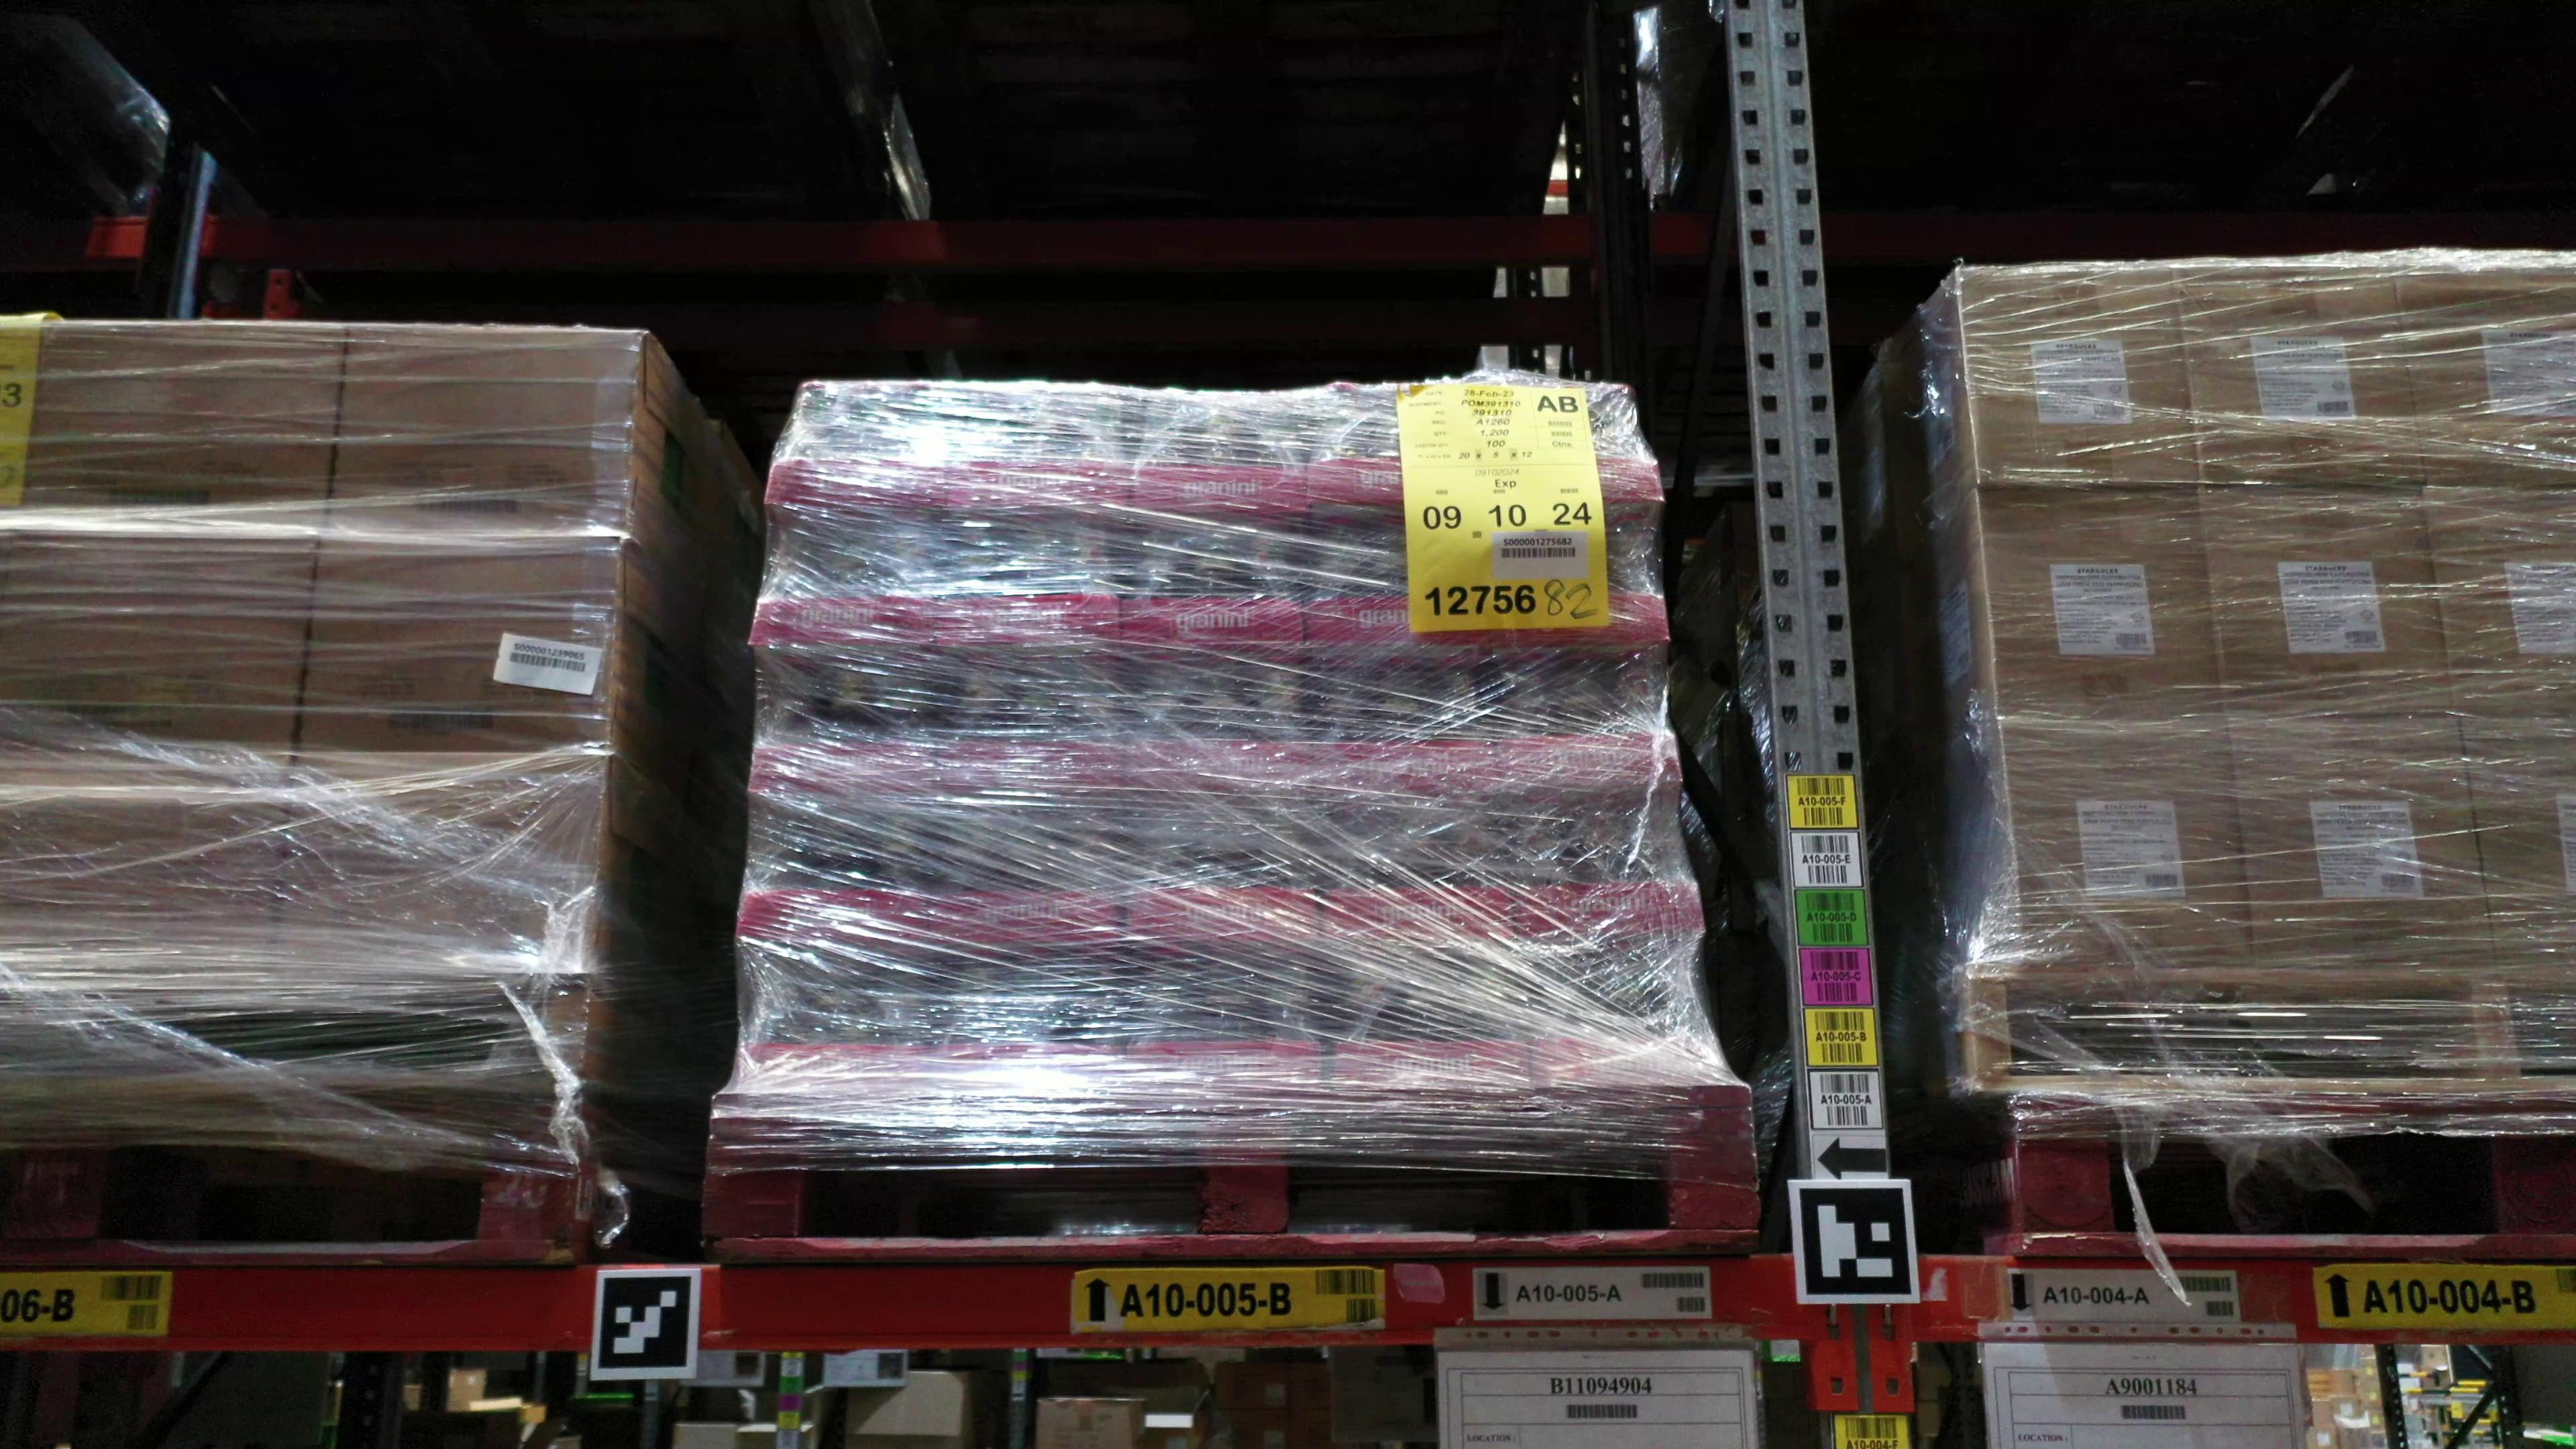-: (287, 540, 625, 798), (0, 531, 324, 787), (0, 317, 347, 541), (324, 320, 644, 545), (2235, 718, 2500, 975), (2001, 718, 2256, 973), (271, 787, 596, 984), (2201, 483, 2459, 718), (2171, 253, 2422, 492), (0, 786, 287, 994), (1976, 483, 2229, 713), (1955, 262, 2197, 492), (2396, 248, 2576, 490), (2424, 483, 2576, 720), (1122, 957, 1329, 1118), (1325, 959, 1537, 1108), (734, 803, 932, 961), (1318, 801, 1518, 957), (2457, 713, 2576, 973), (734, 959, 939, 1102), (748, 653, 936, 809), (934, 653, 1122, 807), (932, 961, 1127, 1108), (932, 807, 1122, 957), (1123, 658, 1315, 807), (1129, 814, 1322, 961), (1516, 805, 1704, 954), (943, 379, 1132, 522), (1530, 954, 1727, 1092), (1468, 373, 1667, 510), (748, 513, 939, 653), (1500, 655, 1679, 803), (1316, 660, 1497, 807), (1483, 517, 1670, 655), (1120, 522, 1304, 660), (1307, 520, 1488, 656), (934, 524, 1123, 653), (764, 387, 948, 517), (1132, 386, 1309, 517), (1309, 379, 1477, 511)
